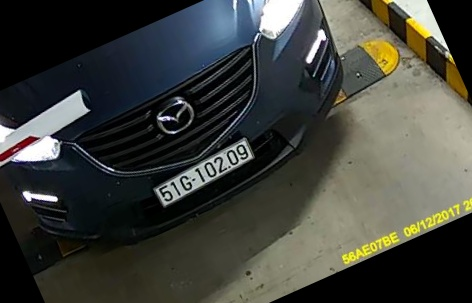plate: (148, 141, 261, 211)
